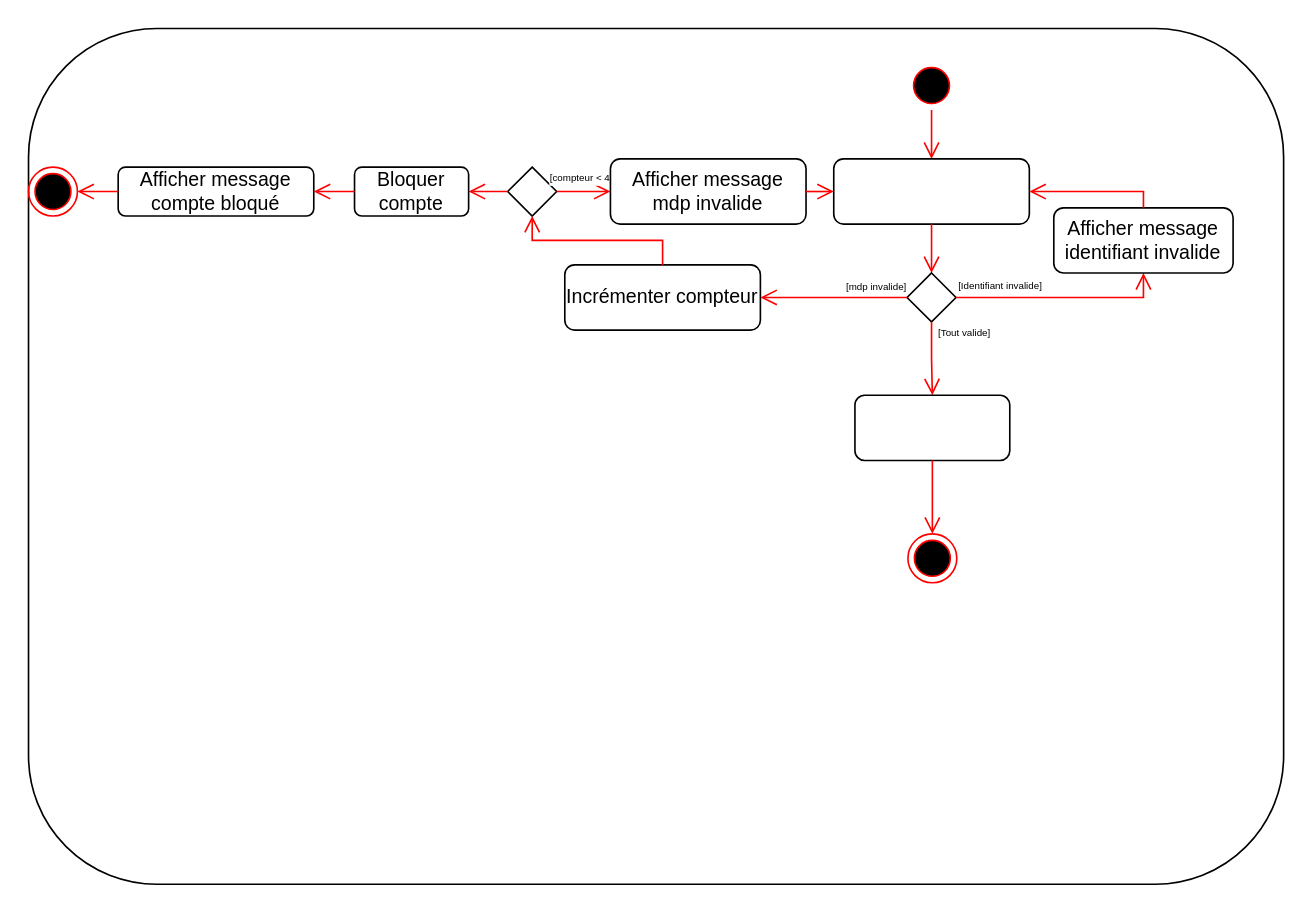
This 1312x913 diagram has some shape labels left out. The box of each missing label's shape, as (x1, y1, x2, y2) in pixels:
Compteur à 0: (853, 394, 1010, 460)
Saisir identifiant et mdp: (832, 157, 1029, 224)
